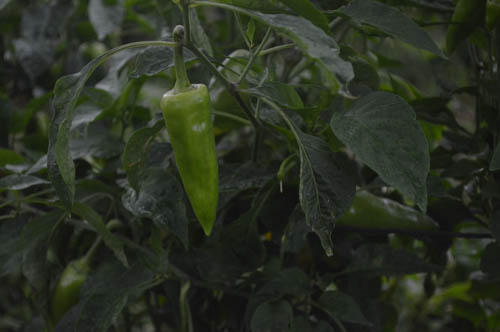ChiliPepper: (164, 86, 220, 234), (341, 190, 434, 235), (51, 261, 86, 321)
